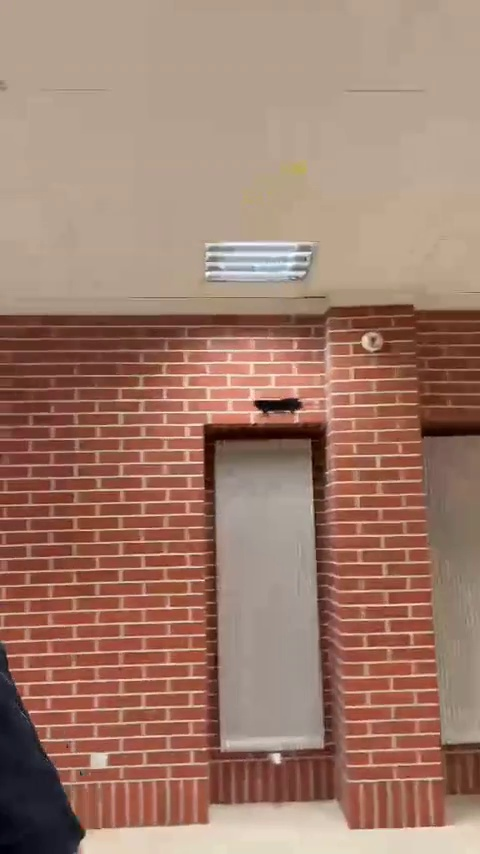drone: (253, 394, 306, 417)
